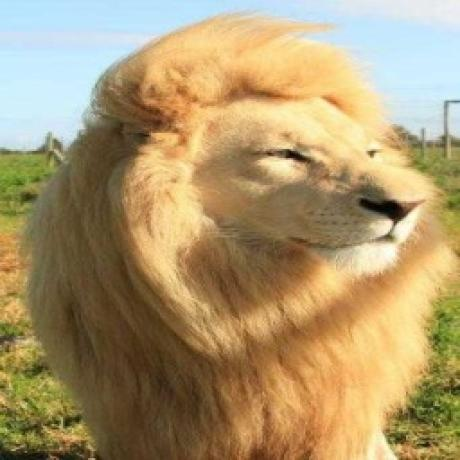Lion: (20, 11, 460, 458)
